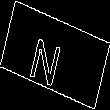N_N: (36, 25, 74, 85)
